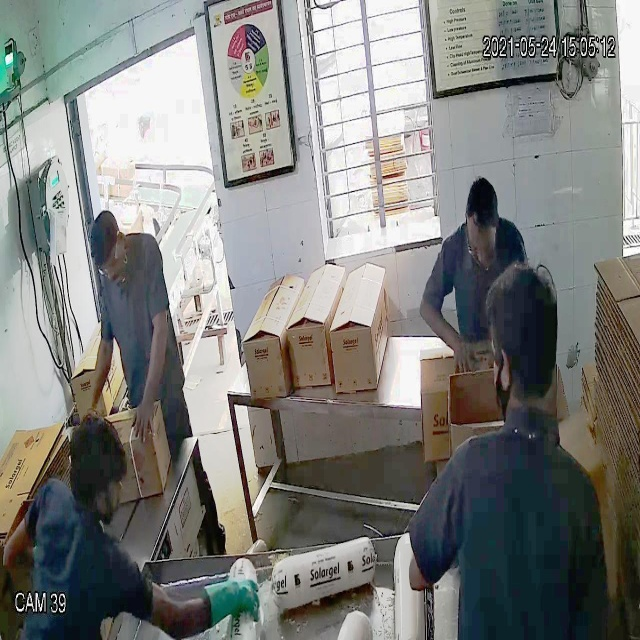Gafas: (91, 248, 120, 280)
